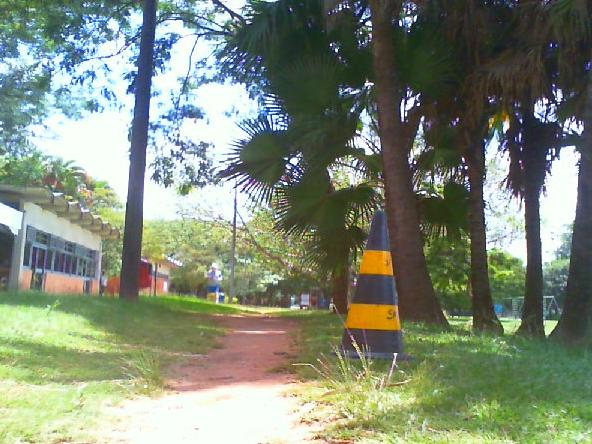0 cone: (330, 212, 415, 361)
